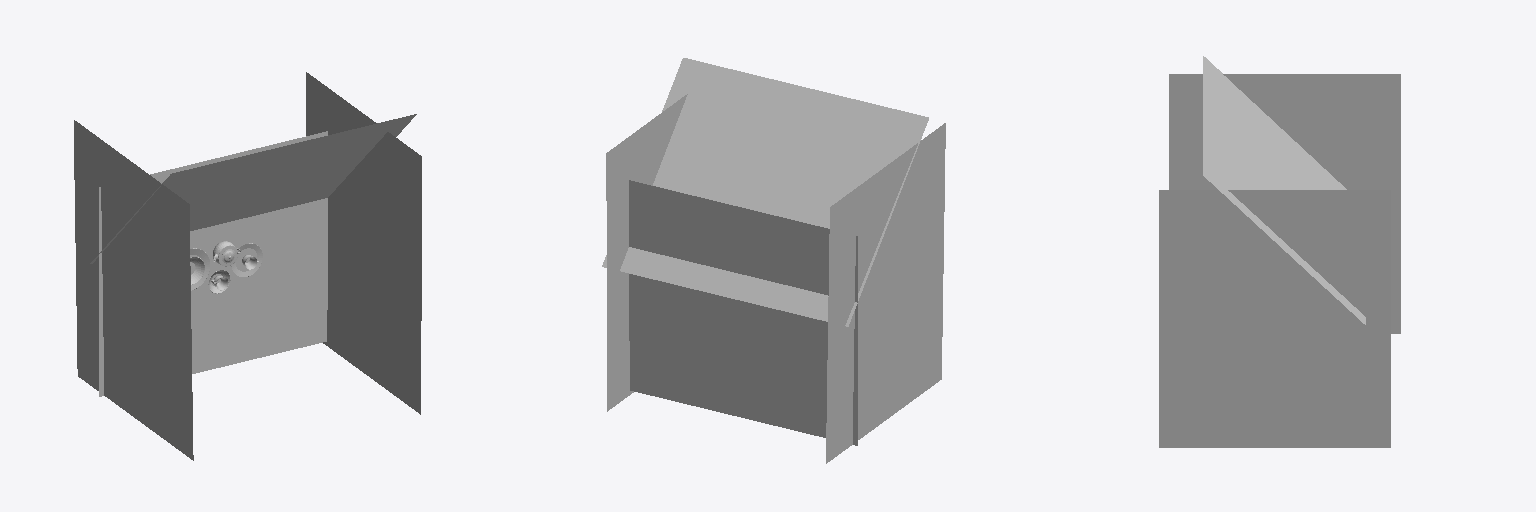
Rendered from qinghuaci.obj.
The picture shows the model from 3 angles: view 1: azimuth 30°, elevation 25°; view 2: azimuth 150°, elevation 25°; view 3: azimuth 270°, elevation 25°; orthographic projection.
Visible parts, largest first — view 1: 3D资源网——Plane004, 3D资源网——Plane003, 3D资源网——Plane001, 3D资源网——Plane002, 3D资源网——Cylinder03; view 2: 3D资源网——Plane001, 3D资源网——Plane002, 3D资源网——Plane004, 3D资源网——Plane003; view 3: 3D资源网——Plane003, 3D资源网——Plane004, 3D资源网——Plane002.
Boxes of the visible parts, x1=… form: 3D资源网——Plane004: x1=74, y1=120, x2=193, y2=460; 3D资源网——Plane003: x1=306, y1=72, x2=421, y2=414; 3D资源网——Plane001: x1=99, y1=131, x2=327, y2=396; 3D资源网——Plane002: x1=90, y1=114, x2=416, y2=263; 3D资源网——Cylinder03: x1=231, y1=243, x2=262, y2=276; 3D资源网——Plane001: x1=629, y1=180, x2=857, y2=445; 3D资源网——Plane002: x1=602, y1=58, x2=928, y2=326; 3D资源网——Plane004: x1=826, y1=123, x2=945, y2=463; 3D资源网——Plane003: x1=606, y1=94, x2=687, y2=411; 3D资源网——Plane003: x1=1159, y1=190, x2=1390, y2=447; 3D资源网——Plane004: x1=1169, y1=74, x2=1400, y2=333; 3D资源网——Plane002: x1=1203, y1=56, x2=1365, y2=324.
Bounding box in the file's own units: 353 × 384 × 299.